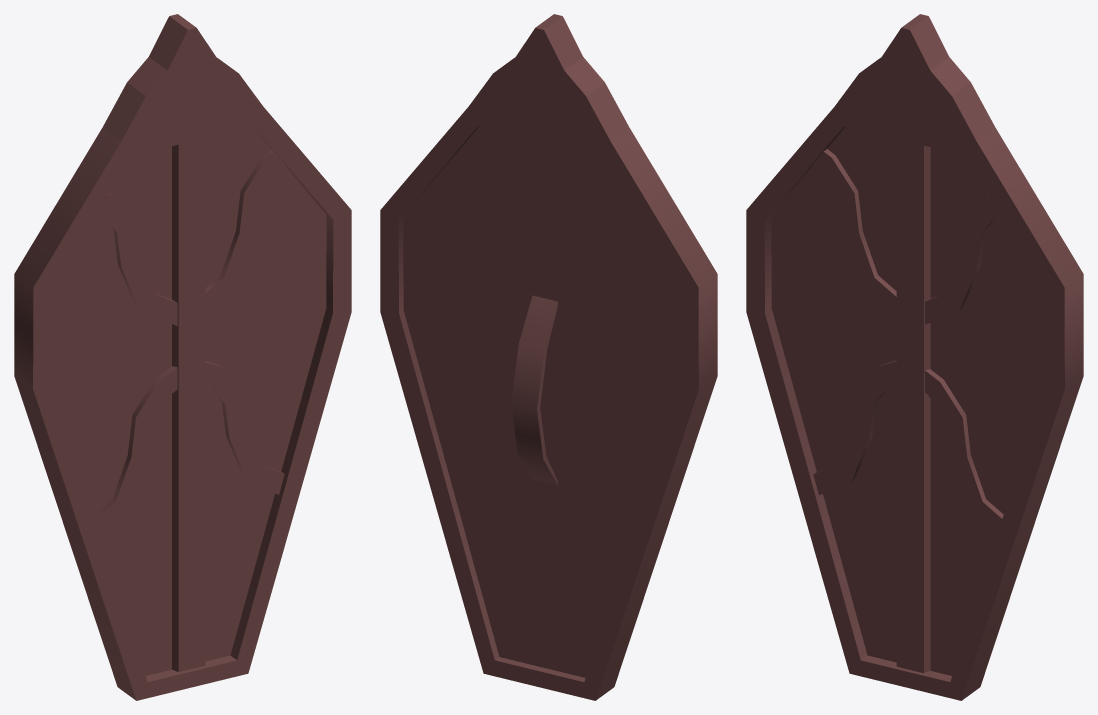
The model's file is SM_shield_long_01.fbx.
3 views of the same model, side by side, from view 1: azimuth 30°, elevation 25°; view 2: azimuth 150°, elevation 25°; view 3: azimuth 330°, elevation 25° (orthographic).
Visible parts, largest first — view 1: Box015; view 2: Box015; view 3: Box015.
Boxes of the visible parts, x1=… form: Box015: x1=14, y1=14, x2=351, y2=700; Box015: x1=380, y1=14, x2=717, y2=700; Box015: x1=746, y1=14, x2=1083, y2=700.
Size of the model in its own units: 20.09 by 39.67 by 3.86.
